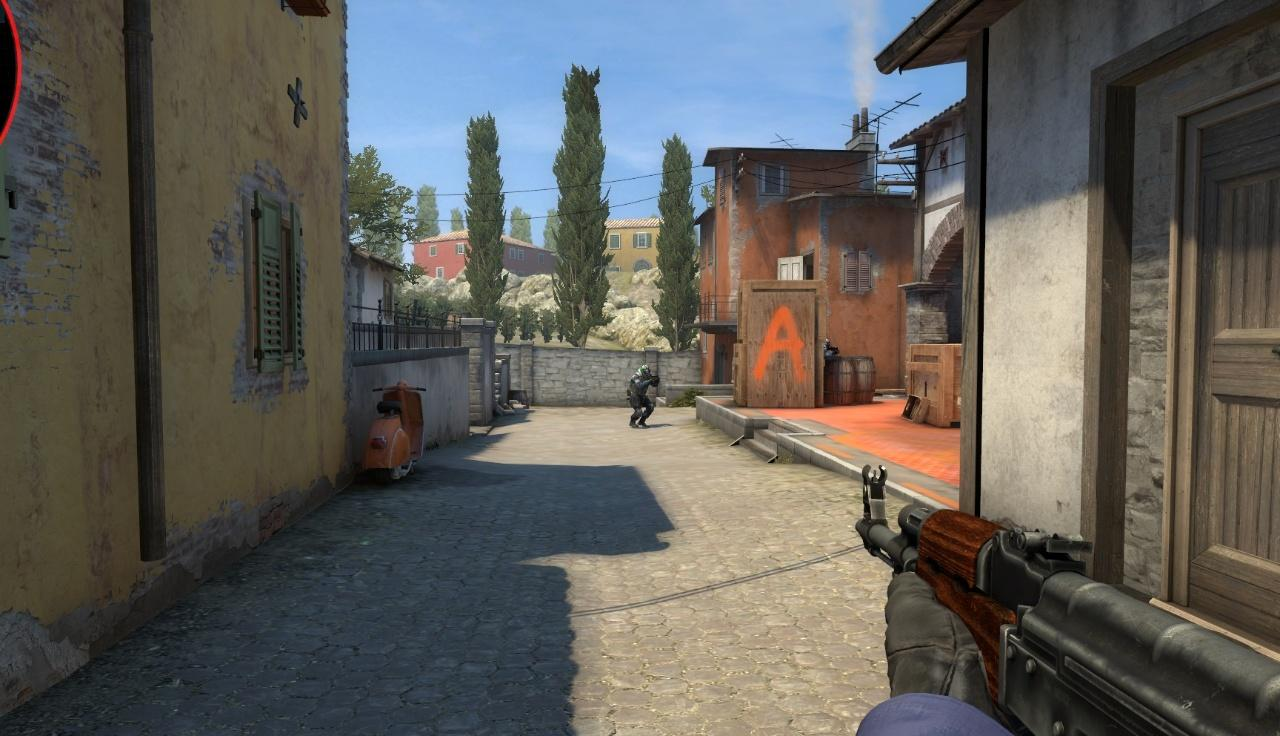ct: (629, 365, 654, 428), (824, 339, 836, 356)
cthead: (642, 365, 650, 375), (825, 339, 830, 347)
rifle: (855, 465, 1280, 736)
